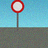sign: (11, 0, 24, 31)
